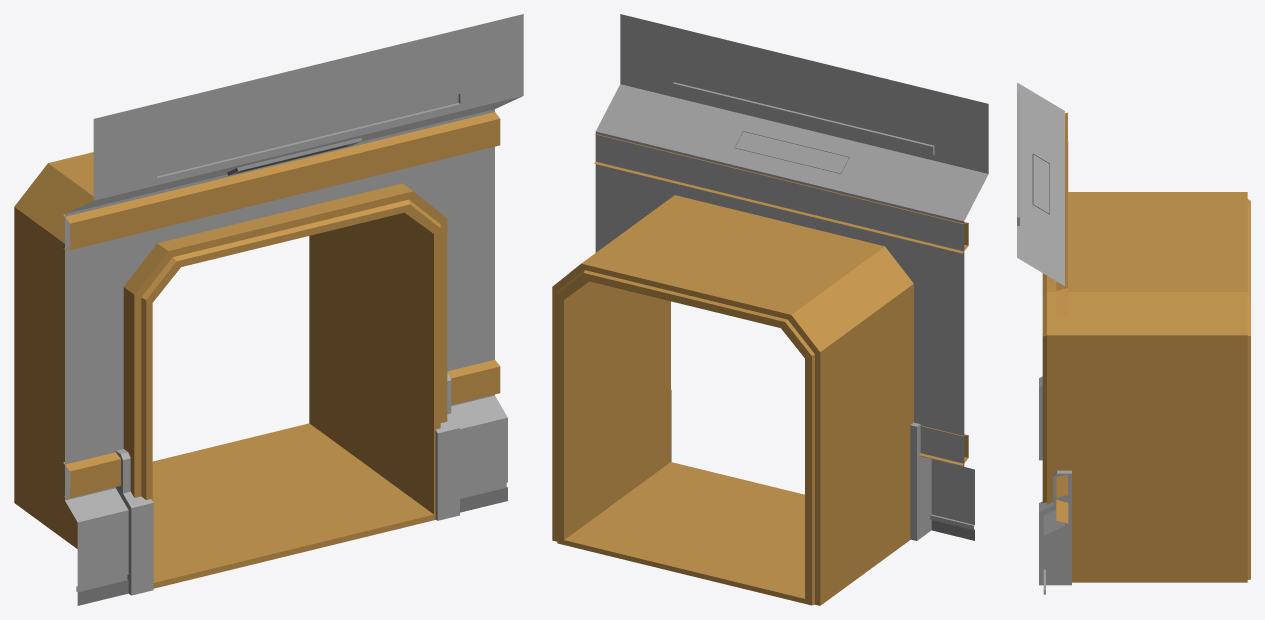
The model's file is DoorDoubleLong_Wall_SideA.gltf.
The picture shows the model from 3 angles, left to right: view 1: azimuth 30°, elevation 25°; view 2: azimuth 150°, elevation 25°; view 3: azimuth 270°, elevation 25°; orthographic projection. The views are drawn at different scales.
Parts seen in each view (by area): view 1: DoorDoubleLong_Wall_SideA; view 2: DoorDoubleLong_Wall_SideA; view 3: DoorDoubleLong_Wall_SideA.
Part boxes in pixels (x1,y1,x2,y2): DoorDoubleLong_Wall_SideA: (14,14,523,605); DoorDoubleLong_Wall_SideA: (552,14,988,605); DoorDoubleLong_Wall_SideA: (1017,82,1250,594).
Bounding box in the file's own units: 4 × 4.44 × 2.25.
